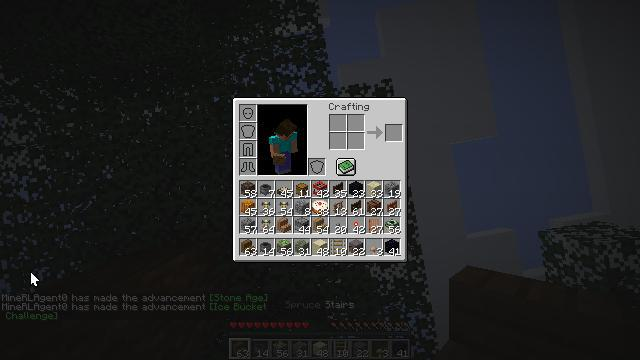cursor: (271, 30, 287, 40)
